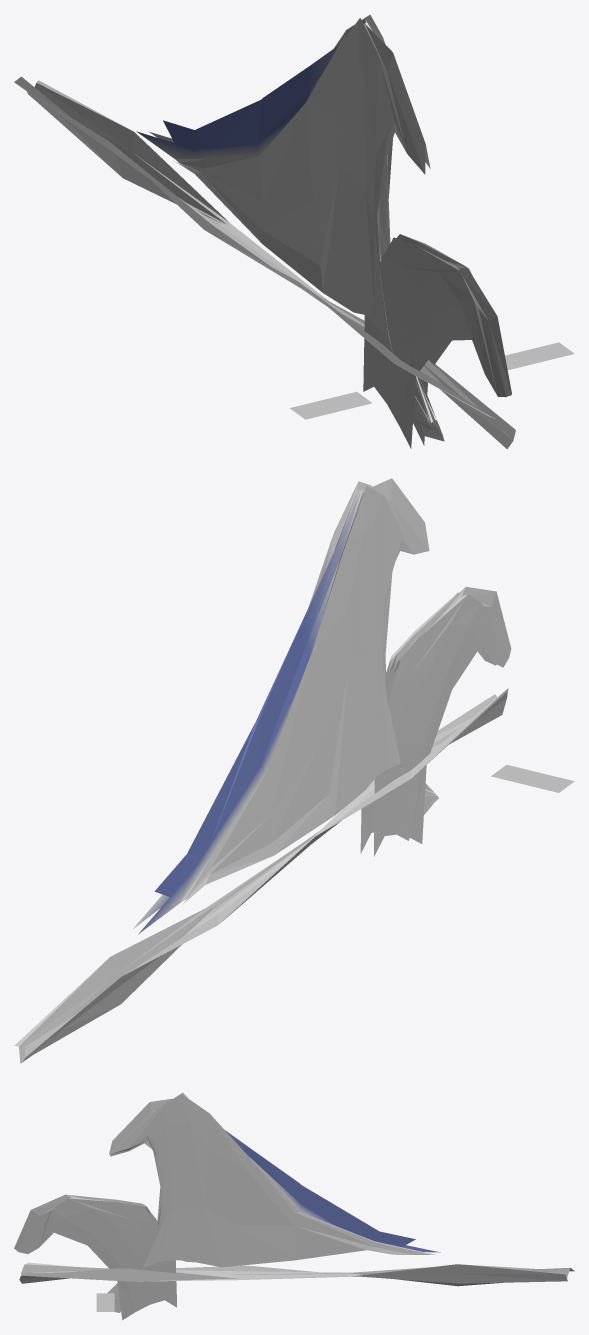
The model's file is pref_fx_Cramorant_spell01A_bullet_e_lv2.fbx.
The picture shows the model from 3 angles, top to bottom: view 1: azimuth 30°, elevation 25°; view 2: azimuth 150°, elevation 25°; view 3: azimuth 270°, elevation 25°; orthographic projection. The views are drawn at different scales.
Parts seen in each view (by area): view 1: lang02, lang05, dimian, bian_warning; view 2: lang02, lang05, dimian, bian_warning; view 3: lang02, lang05, dimian, bian_warning.
Boxes of the visible parts, bbox=[...] form: lang02: bbox=[136, 15, 444, 441]; lang05: bbox=[363, 234, 511, 448]; dimian: bbox=[14, 76, 515, 449]; bian_warning: bbox=[290, 342, 574, 419]; lang02: bbox=[133, 478, 438, 934]; lang05: bbox=[360, 587, 511, 856]; dimian: bbox=[14, 688, 508, 1063]; bian_warning: bbox=[491, 764, 574, 792]; lang02: bbox=[107, 1092, 440, 1312]; lang05: bbox=[14, 1194, 176, 1320]; dimian: bbox=[19, 1262, 574, 1286]; bian_warning: bbox=[96, 1293, 114, 1311].
Size of the model in its own units: 1.72 by 2.4 by 5.41.
